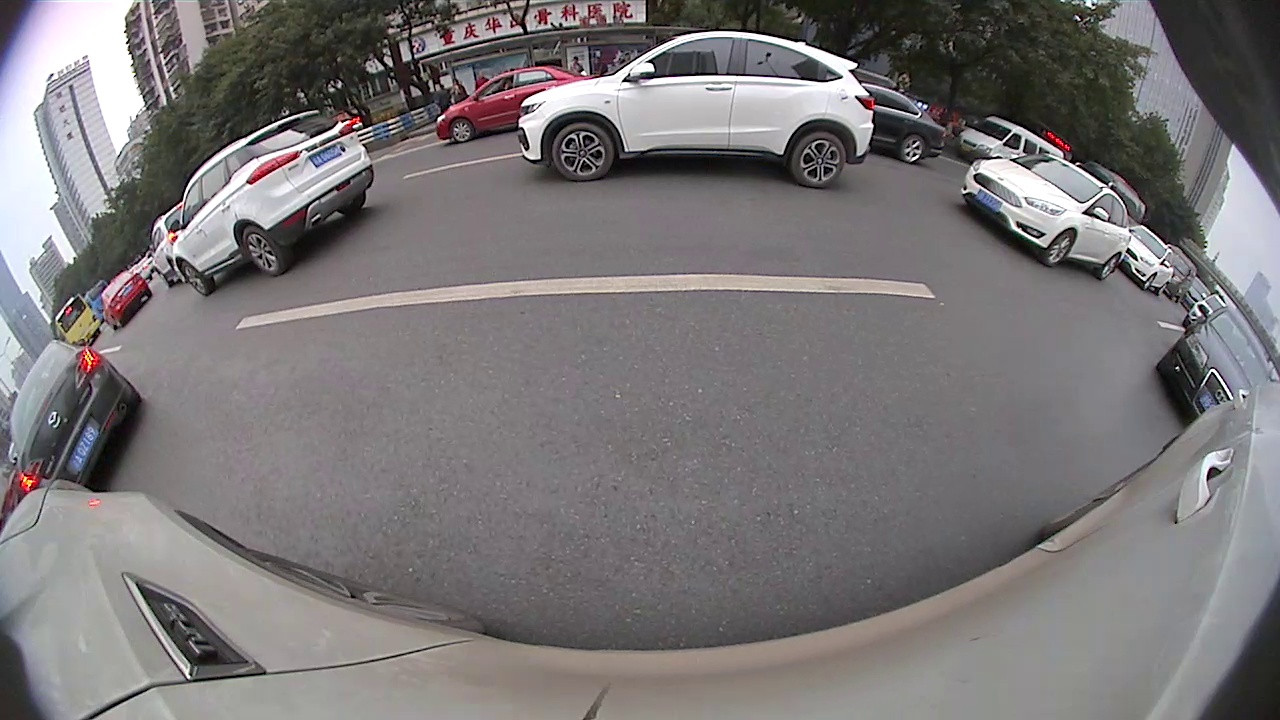bus: (50, 292, 100, 348)
car: (517, 29, 874, 189), (167, 108, 377, 297), (964, 151, 1131, 279), (8, 338, 142, 492), (1154, 305, 1269, 423), (430, 67, 597, 143), (860, 82, 946, 163), (956, 113, 1067, 172), (1122, 223, 1175, 297), (94, 269, 154, 330)
front: (551, 122, 613, 182), (179, 258, 215, 296), (1043, 227, 1075, 269), (450, 116, 475, 142), (1141, 270, 1158, 292)
rear: (791, 133, 846, 187), (241, 226, 286, 278), (899, 134, 925, 162), (1098, 251, 1120, 279)
